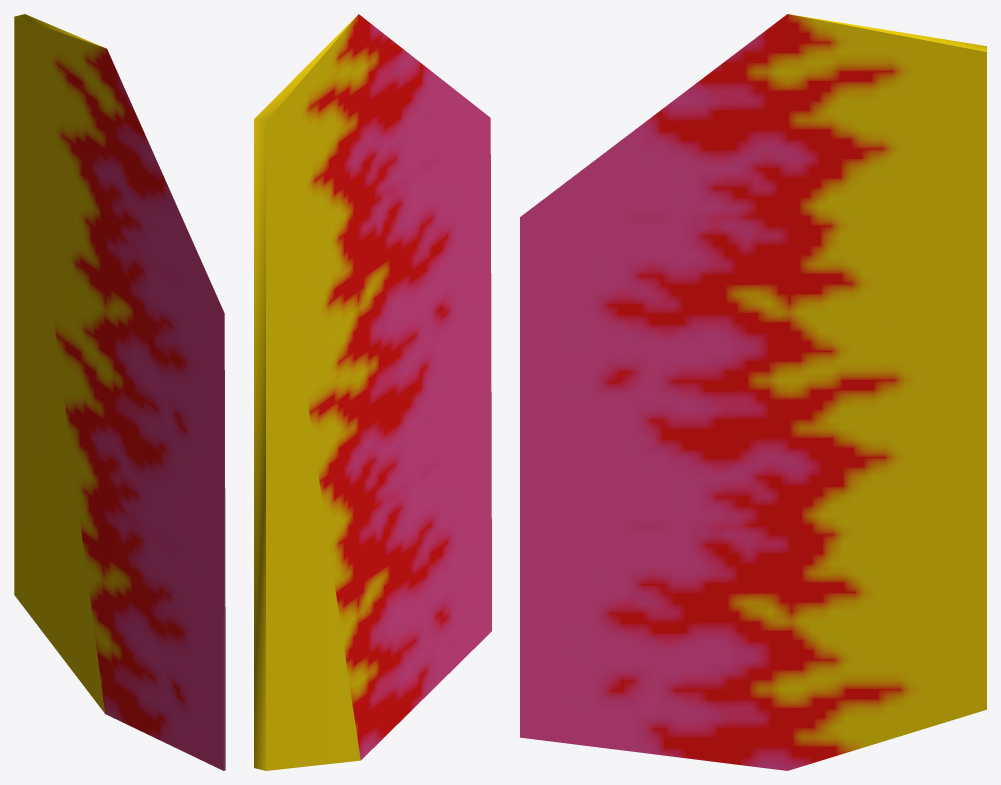
The model's file is aleron.obj.
The picture shows the model from 3 angles, left to right: view 1: azimuth 30°, elevation 25°; view 2: azimuth 150°, elevation 25°; view 3: azimuth 270°, elevation 25°; orthographic projection. The views are drawn at different scales.
Visible parts, largest first — view 1: 000_Buffer_Layer.005; view 2: 000_Buffer_Layer.005; view 3: 000_Buffer_Layer.005.
Part boxes in pixels (box(x1,y1,x2,y2)): 000_Buffer_Layer.005: box(14, 14, 225, 770); 000_Buffer_Layer.005: box(254, 14, 491, 770); 000_Buffer_Layer.005: box(520, 14, 986, 770).
Size of the model in its own units: 0.023 by 1.36 by 0.761.
1 material, 1 textured.
